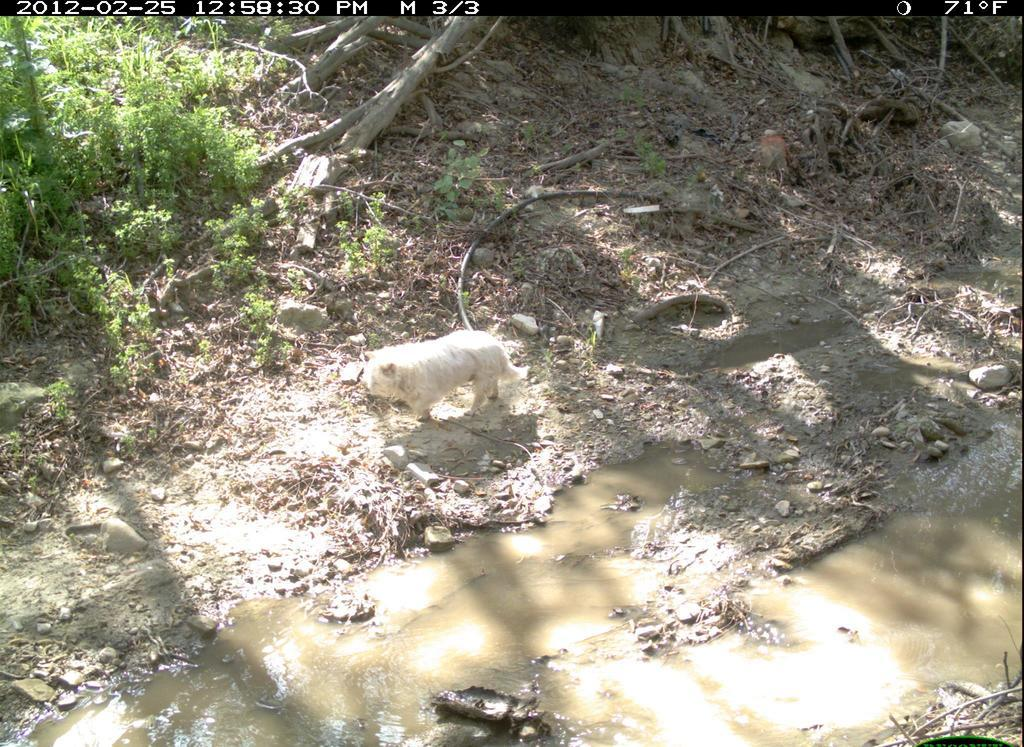dog: (354, 327, 532, 428)
